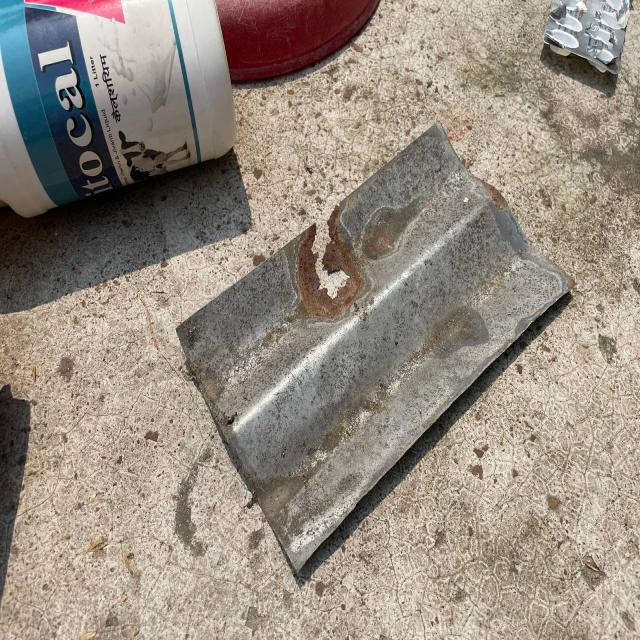Medical Waste: (534, 1, 629, 101)
Metal: (160, 176, 583, 550)
Plastics: (0, 0, 388, 205)
